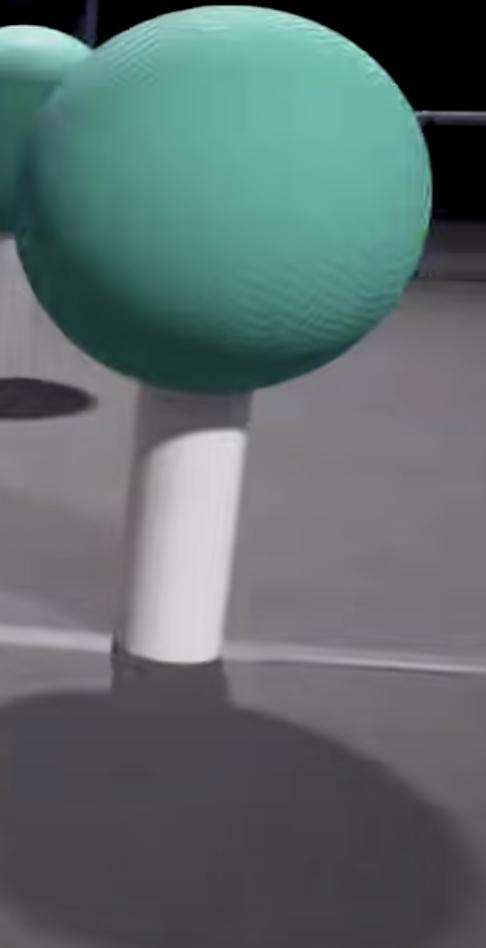algae: (15, 4, 432, 395), (0, 25, 94, 230)
coral: (123, 379, 249, 662)
